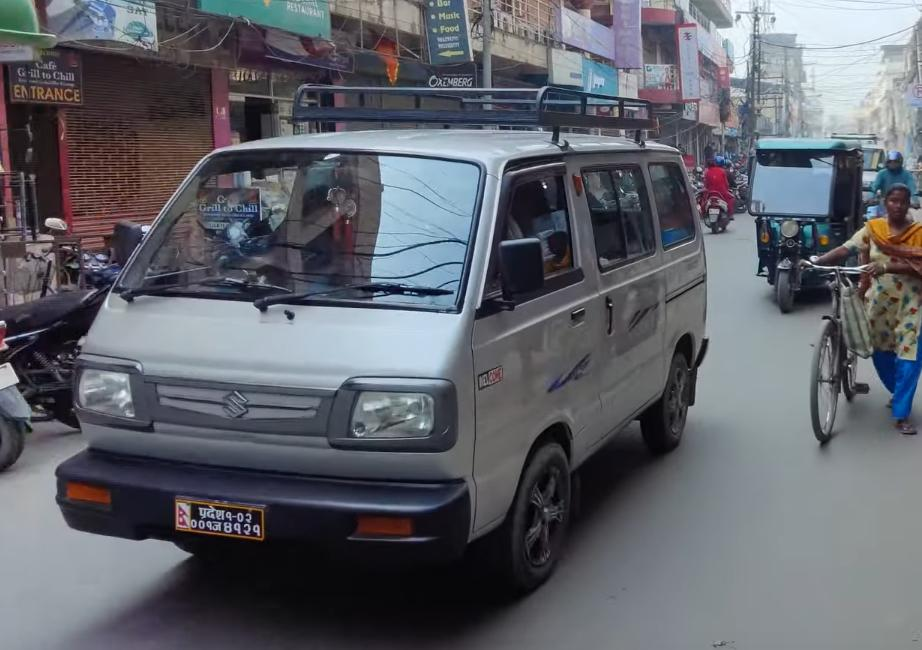e-rickshaw: (746, 126, 860, 312)
van: (42, 70, 736, 612)
